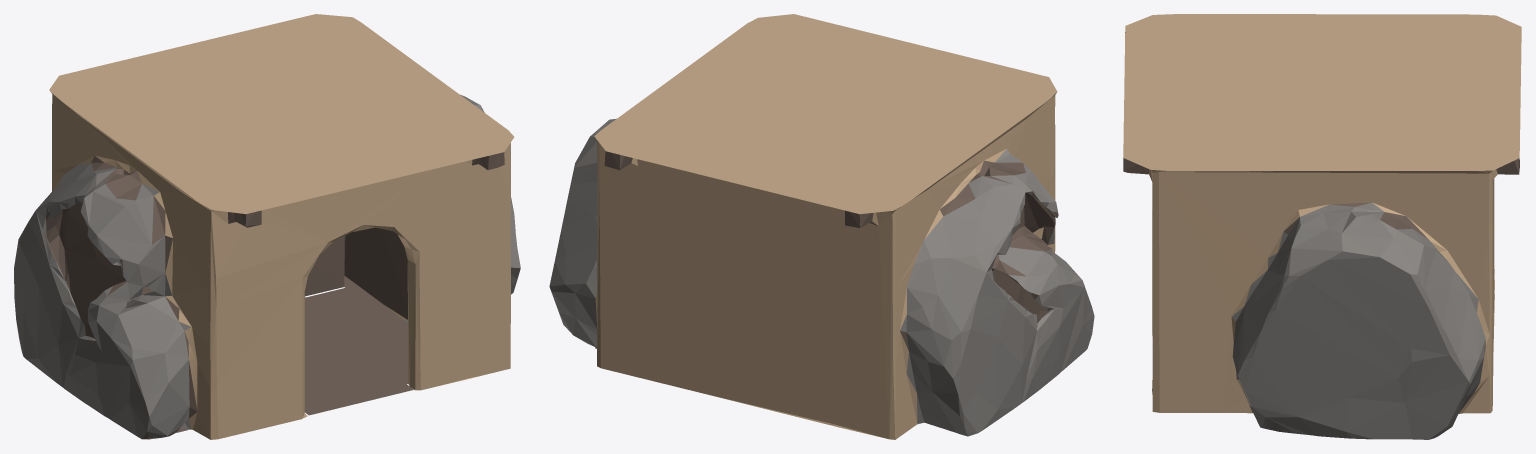
The model's file is etape-1.glb.
The picture shows the model from 3 angles, left to right: view 1: azimuth 30°, elevation 25°; view 2: azimuth 150°, elevation 25°; view 3: azimuth 270°, elevation 25°; orthographic projection. The views are drawn at different scales.
Visible parts, largest first — view 1: geometry_0; view 2: geometry_0; view 3: geometry_0.
Part boxes in pixels (x1,y1,x2,y2): geometry_0: [14, 14, 520, 439]; geometry_0: [549, 14, 1094, 439]; geometry_0: [1123, 14, 1521, 439].
Size of the model in its own units: 1 by 0.5252 by 0.7792.
